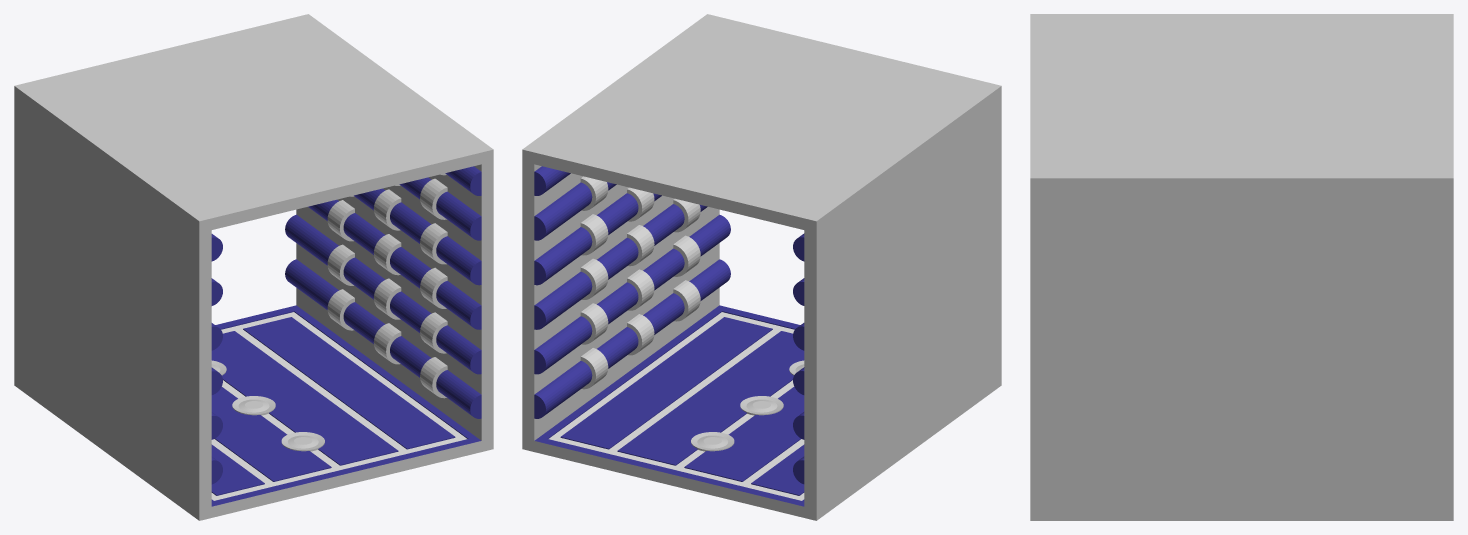
Rendered from Corridor.fbx.
3 renders of one model, left to right at view 1: azimuth 30°, elevation 25°; view 2: azimuth 150°, elevation 25°; view 3: azimuth 270°, elevation 25°, orthographic. The views are drawn at different scales.
Parts seen in each view (by area): view 1: Cube; view 2: Cube; view 3: Cube.
Boxes of the visible parts, bbox=[...] form: Cube: bbox=[14, 14, 493, 520]; Cube: bbox=[522, 14, 1001, 520]; Cube: bbox=[1030, 14, 1453, 520].
Size of the model in its own units: 691 by 672 by 753.
